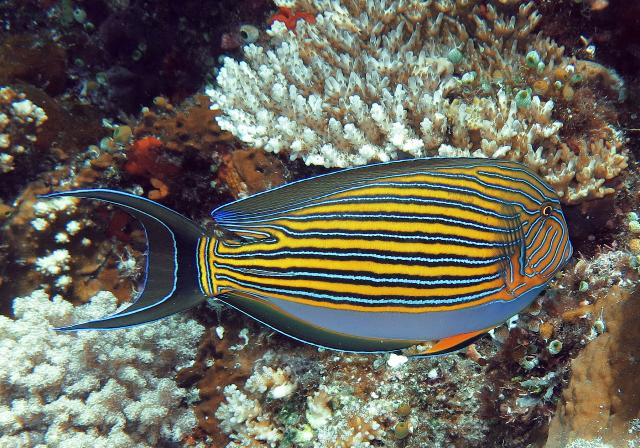Sirip Anal: (204, 276, 434, 368)
Sirip Dada: (480, 194, 540, 310)
Sirip Ekor: (30, 171, 226, 351)
Sirip Perut: (408, 307, 502, 368)
Sirip Punggung: (199, 148, 515, 235)
